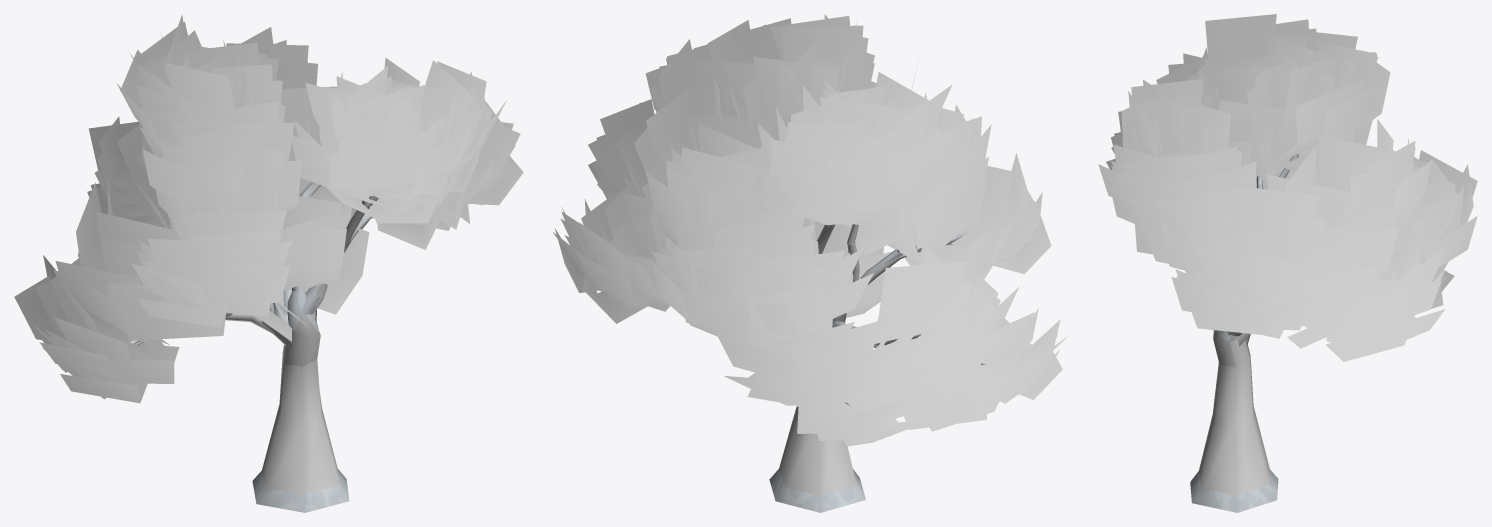
Rendered from Tree_Medium_4_Tall_Snow.fbx.
The picture shows the model from 3 angles, left to right: view 1: azimuth 30°, elevation 25°; view 2: azimuth 150°, elevation 25°; view 3: azimuth 270°, elevation 25°; orthographic projection. The views are drawn at different scales.
Parts seen in each view (by area): view 1: Tree_Medium_4_Snow_LOD0, Tree_Medium_4_Snow_Colider; view 2: Tree_Medium_4_Snow_LOD0; view 3: Tree_Medium_4_Snow_LOD0, Tree_Medium_4_Snow_Colider.
Boxes of the visible parts, x1,y1,x2,y2 form: Tree_Medium_4_Snow_LOD0: (14,14,523,512); Tree_Medium_4_Snow_Colider: (285,303,320,366); Tree_Medium_4_Snow_LOD0: (553,14,1068,512); Tree_Medium_4_Snow_LOD0: (1098,14,1477,512); Tree_Medium_4_Snow_Colider: (1213,330,1237,367).
Size of what is drawn, in the model's own units: 2429 by 2251 by 1805.
